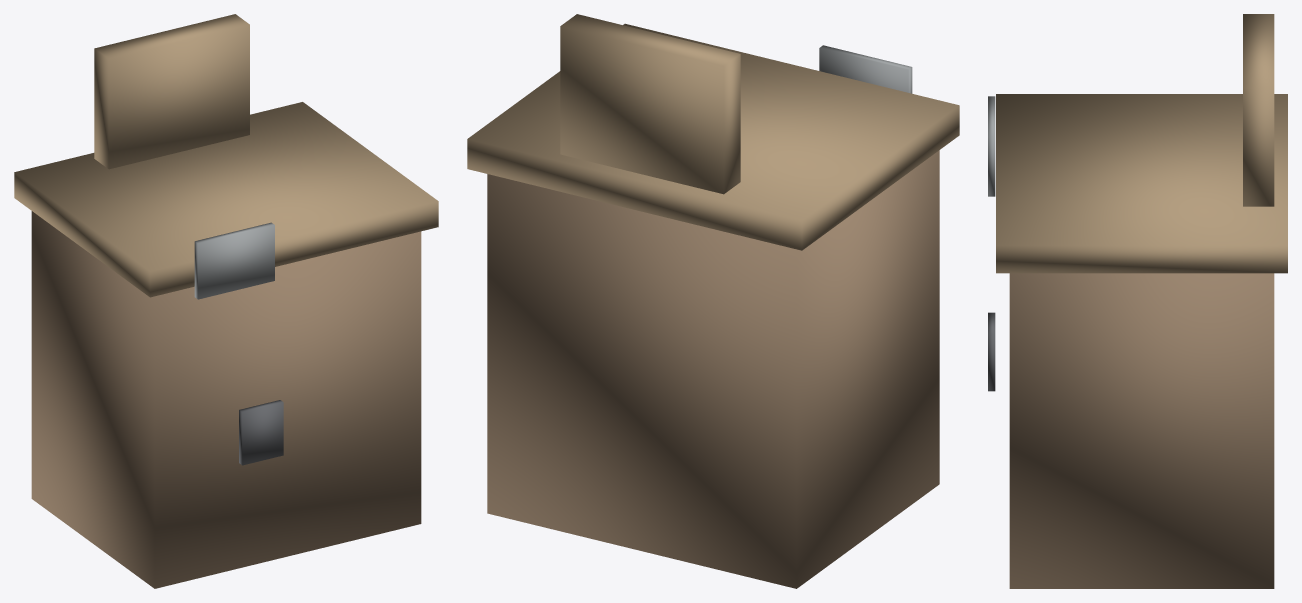
The model's file is witness_stand__weathered.glb.
3 renders of one model, left to right at view 1: azimuth 30°, elevation 25°; view 2: azimuth 150°, elevation 25°; view 3: azimuth 270°, elevation 25°, orthographic. The views are drawn at different scales.
Visible parts, largest first — view 1: world; view 2: world; view 3: world.
Part boxes in pixels (box(x1,y1,x2,y2)): world: box(14, 14, 438, 588); world: box(467, 14, 959, 588); world: box(988, 14, 1287, 588).
Bounding box in the file's own units: 0.92 × 1.33 × 0.7699.
